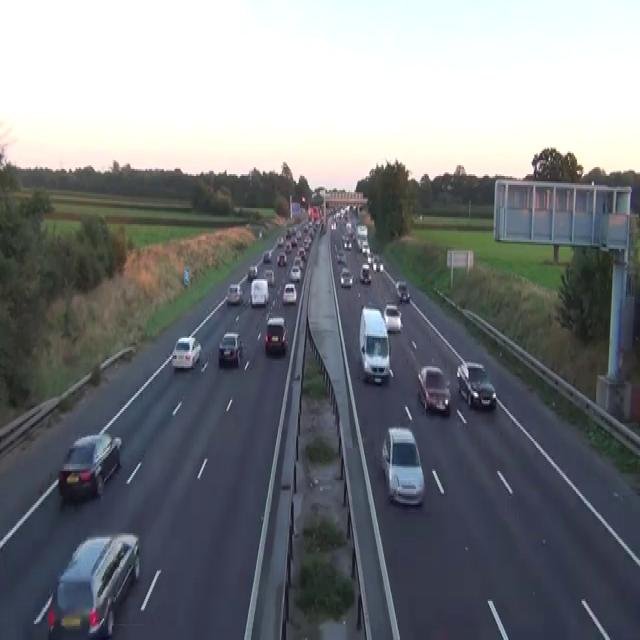Car: (33, 532, 140, 638), (58, 432, 122, 501), (381, 425, 425, 505), (456, 361, 496, 409), (417, 364, 450, 414), (171, 336, 201, 370), (218, 331, 243, 366), (264, 316, 287, 354), (250, 278, 269, 308), (383, 304, 402, 332), (226, 283, 243, 304), (395, 279, 410, 302), (282, 283, 297, 304), (340, 267, 353, 286), (359, 263, 371, 283), (289, 265, 301, 281), (264, 268, 274, 286), (372, 256, 383, 272), (247, 265, 257, 281), (310, 192, 323, 204), (399, 288, 410, 302), (395, 279, 406, 292), (277, 252, 287, 266), (336, 249, 345, 263), (293, 254, 302, 267), (345, 220, 353, 234), (303, 236, 311, 249), (297, 245, 305, 258), (263, 251, 271, 263), (361, 240, 369, 252), (343, 238, 351, 249), (366, 251, 373, 263), (320, 222, 326, 235), (290, 237, 297, 247), (284, 242, 291, 252), (277, 235, 283, 245), (330, 220, 336, 230), (285, 228, 291, 238), (446, 183, 454, 190), (302, 222, 308, 231), (301, 196, 306, 206), (379, 261, 383, 272), (296, 230, 301, 238), (258, 230, 262, 238)
Truck: (359, 304, 390, 384)
